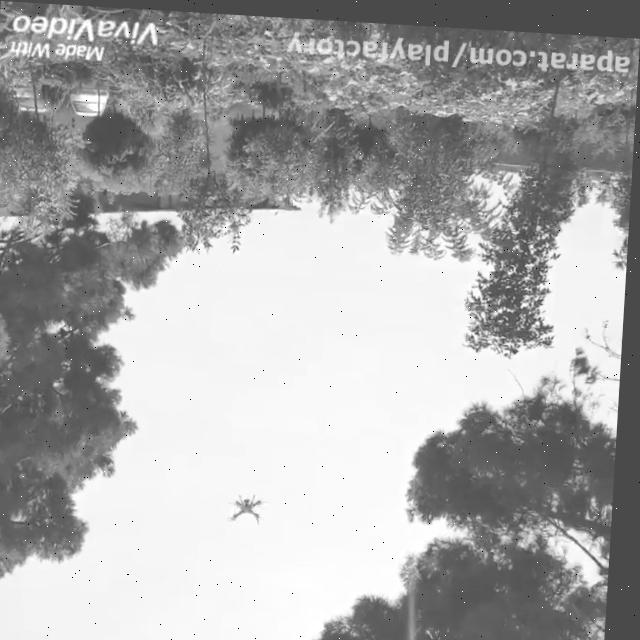drone: (226, 487, 278, 526)
